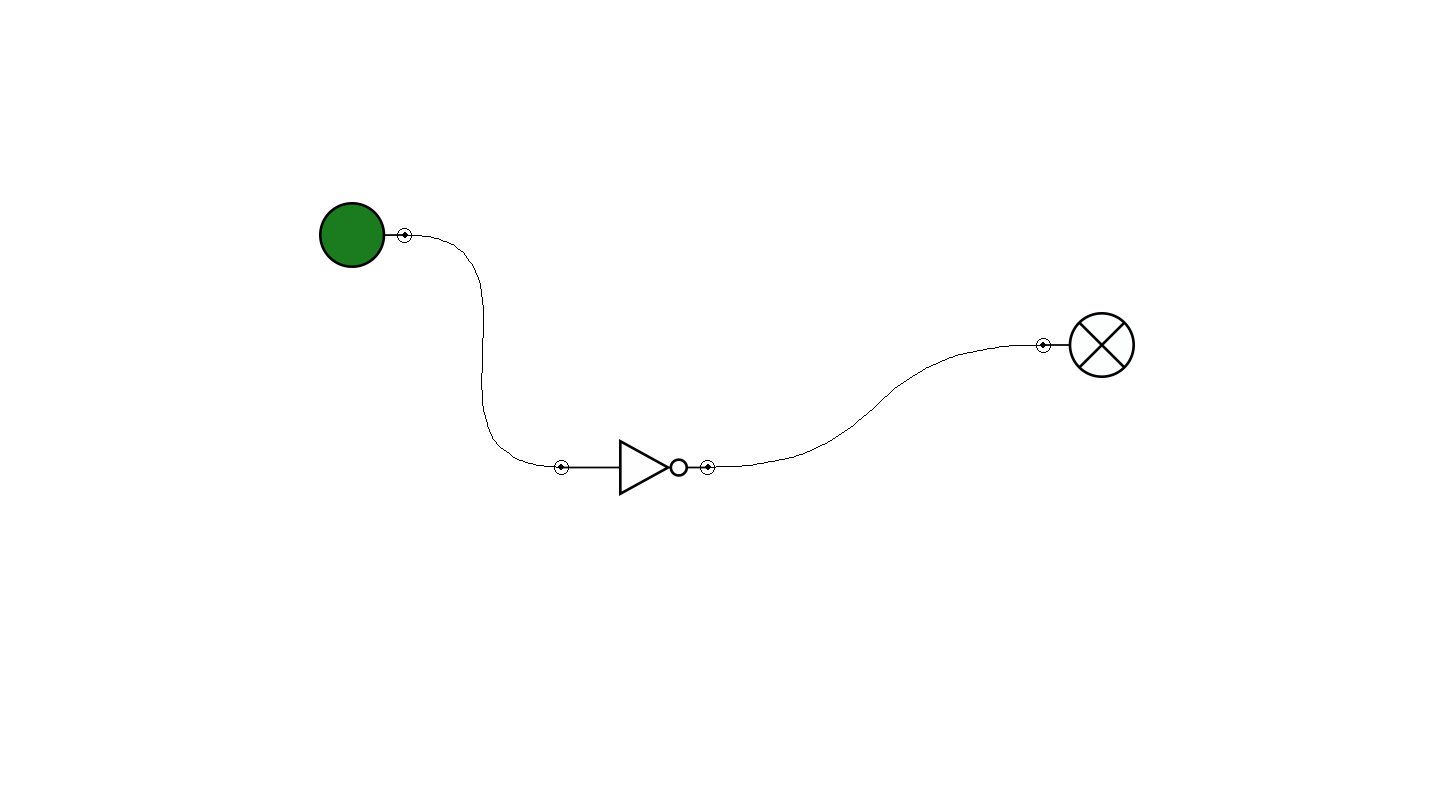bulb: (1036, 312, 1135, 378)
not: (554, 439, 715, 496)
switch_True: (319, 202, 412, 268)
